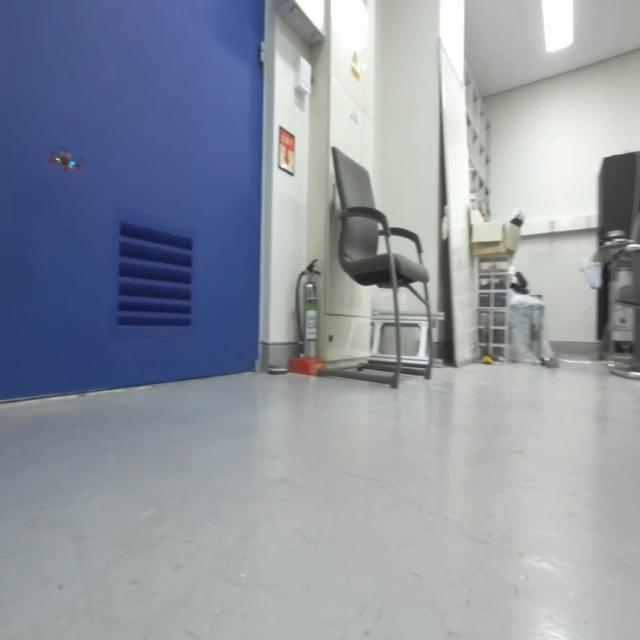crazyflie: (47, 139, 85, 181)
